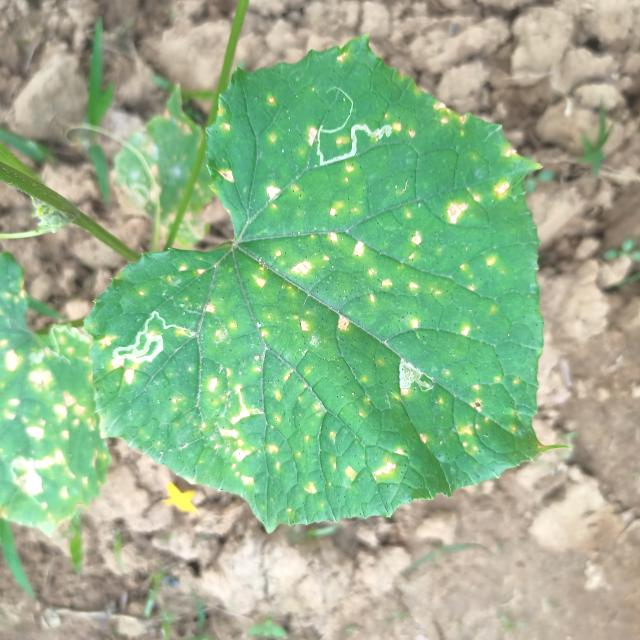disease_cucumber: (100, 89, 526, 514), (0, 300, 87, 523)
